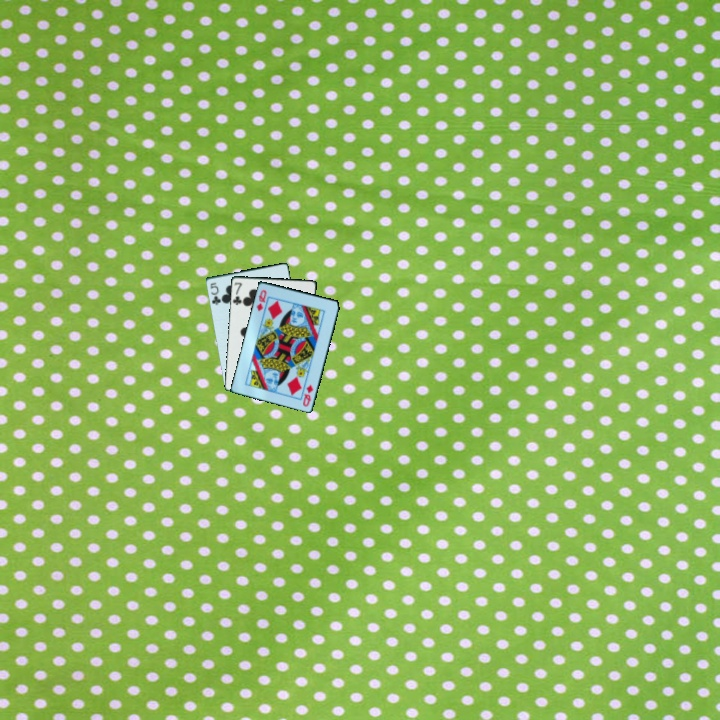5c: (207, 279, 223, 308)
7c: (229, 279, 245, 308)
Qd: (299, 381, 316, 409), (253, 286, 269, 314)
